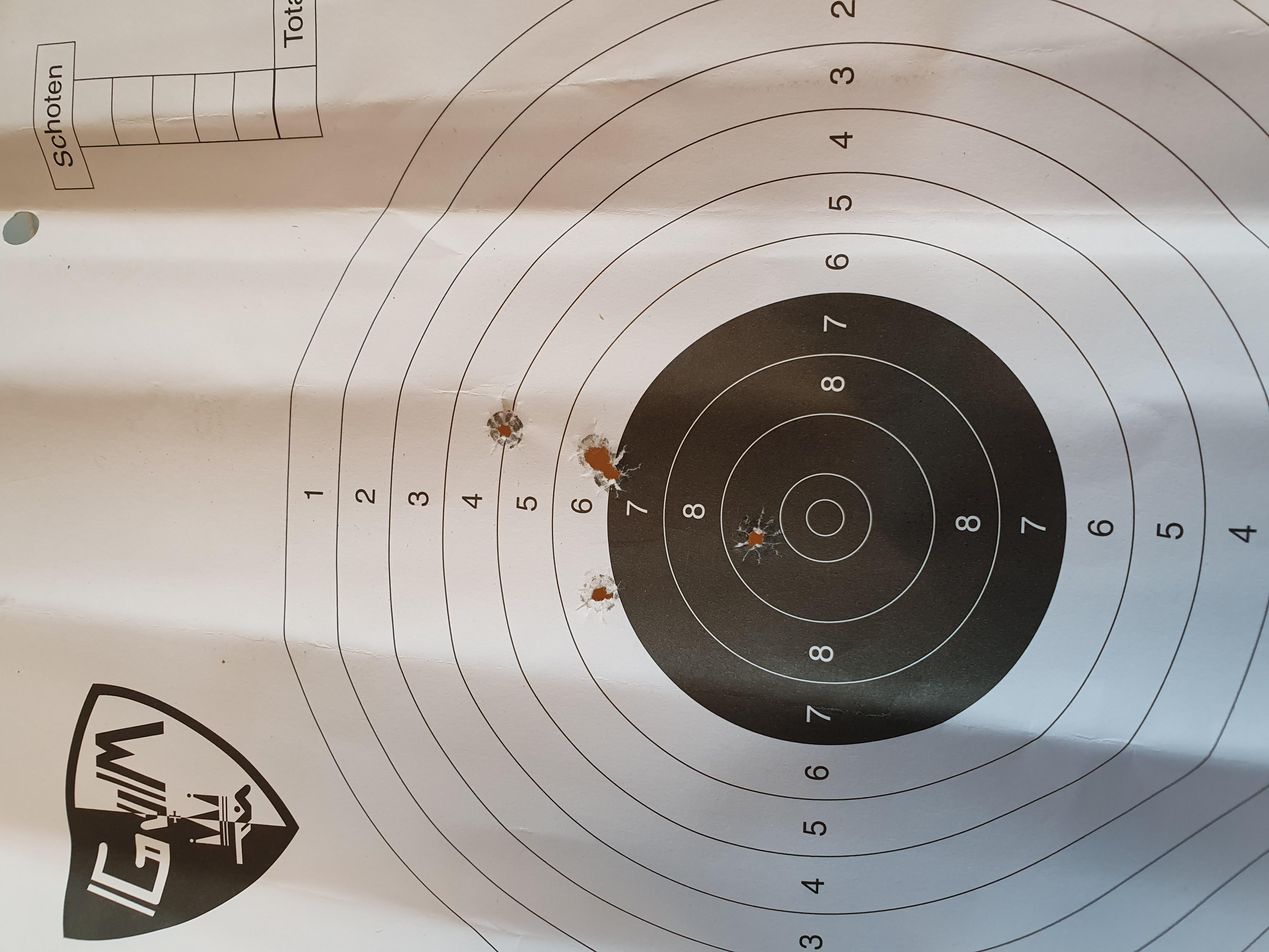hole: (511, 551, 588, 587), (447, 432, 505, 467), (641, 427, 698, 461), (666, 361, 724, 394), (606, 449, 660, 479)
